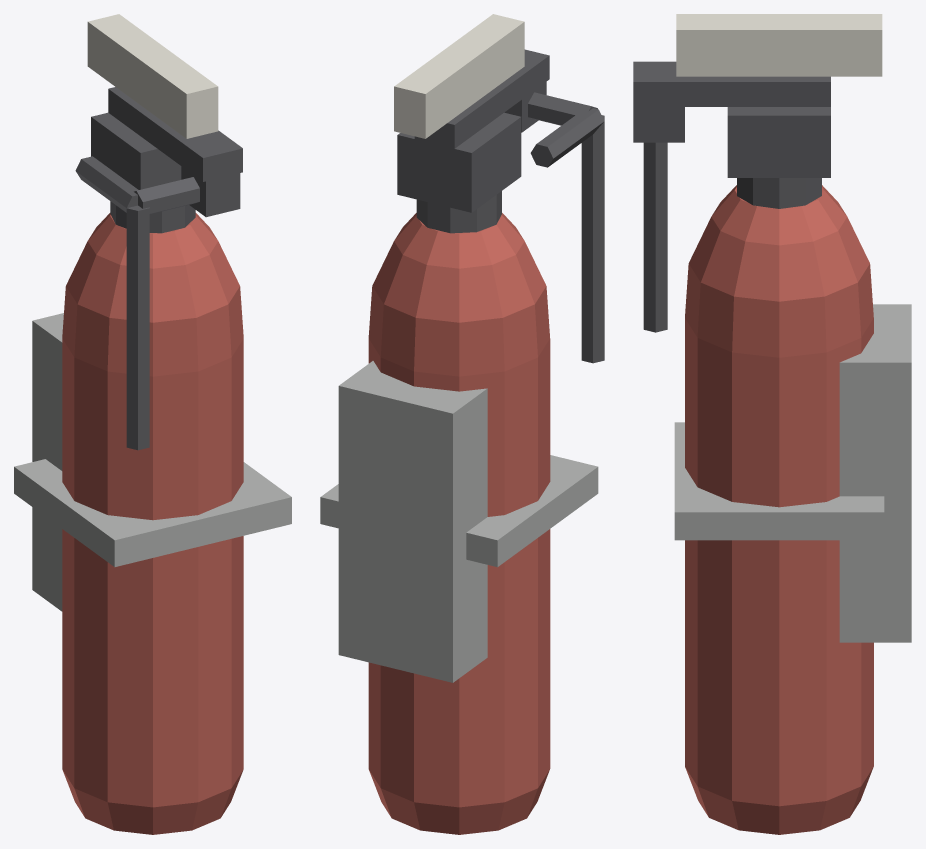
The model's file is extinguisher.glb.
3 views of the same model, side by side, from view 1: azimuth 30°, elevation 25°; view 2: azimuth 150°, elevation 25°; view 3: azimuth 270°, elevation 25° (orthographic). The views are drawn at different scales.
Visible parts, largest first — view 1: NC_extinguisher; view 2: NC_extinguisher; view 3: NC_extinguisher.
Part boxes in pixels (left/top/right/bottom): NC_extinguisher: left=14, top=14, right=291, bottom=834; NC_extinguisher: left=320, top=14, right=604, bottom=834; NC_extinguisher: left=633, top=14, right=911, bottom=834.
Size of the model in its own units: 0.124 by 0.5 by 0.162.
